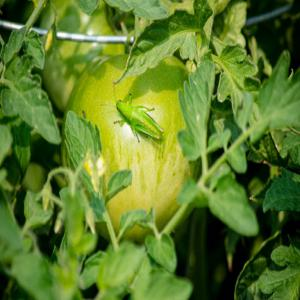locust: (101, 69, 164, 154)
